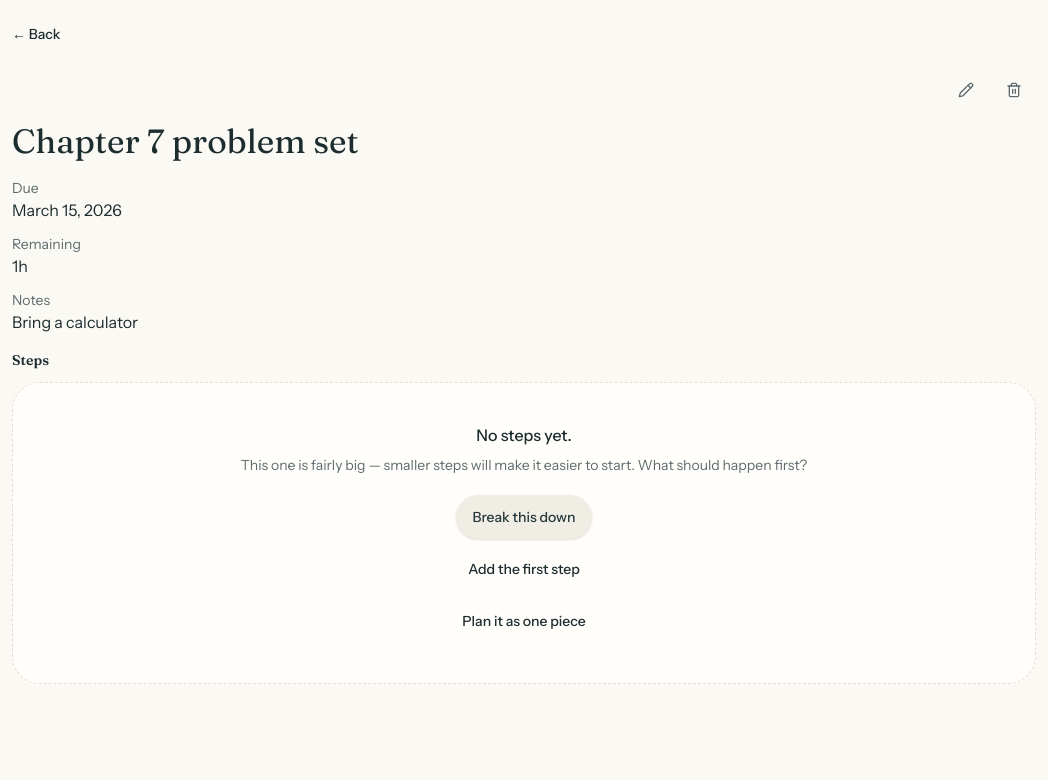
Test: AssignmentDetailPage › 'Add the first step' opens the add form in place of the card
Click the button "Add the first step" at (524, 569), box [452,547,596,591]
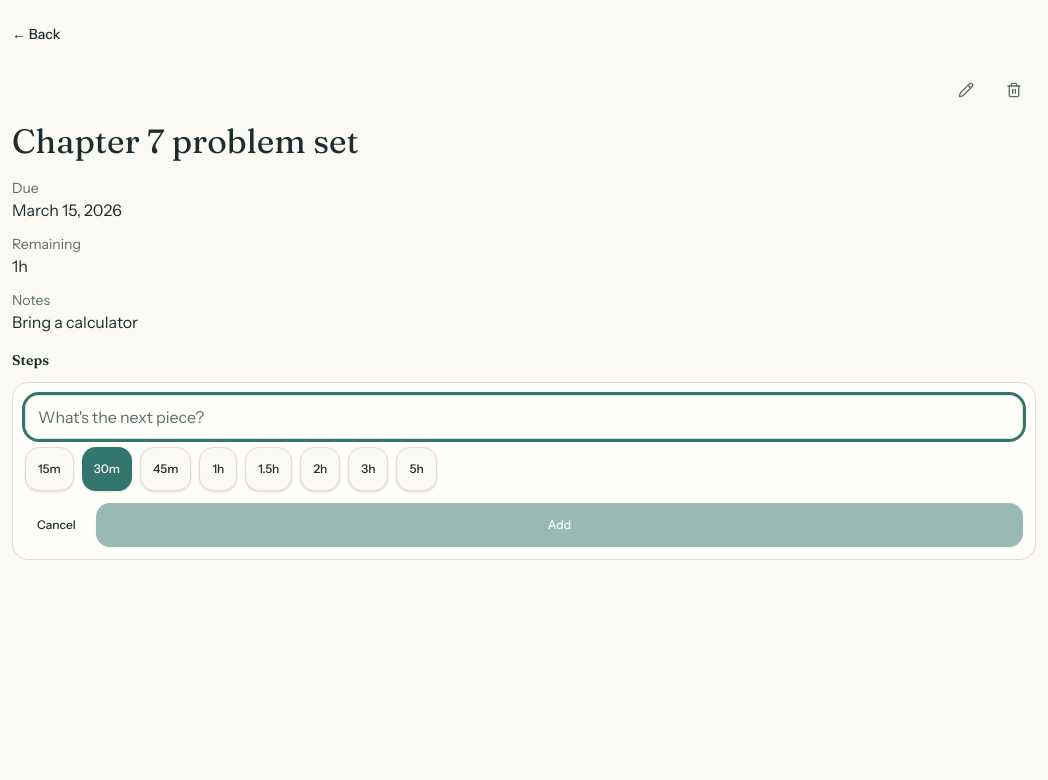
Expected: the field named "New step title" is shown, [25,395,1023,439]
Expected: the text "No steps yet." is gone
